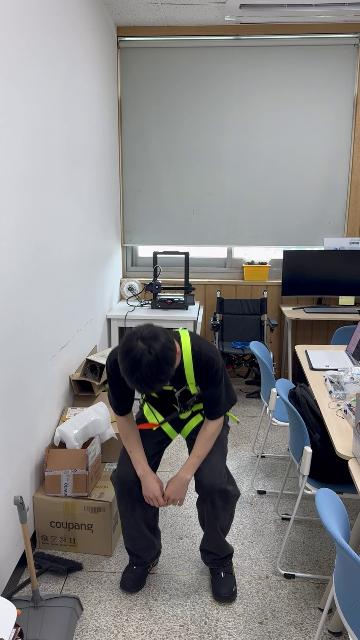shoe_worn: (120, 549, 162, 593), (209, 562, 237, 602)
vest_worn: (137, 330, 211, 438)
